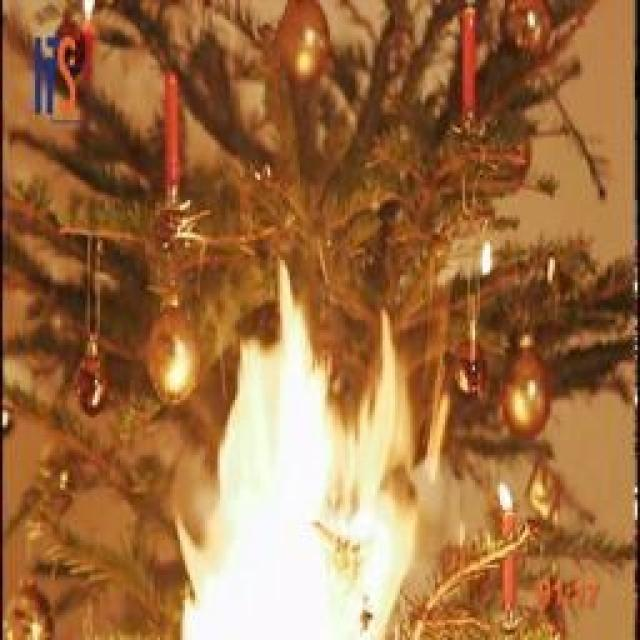fire: (184, 265, 454, 640)
